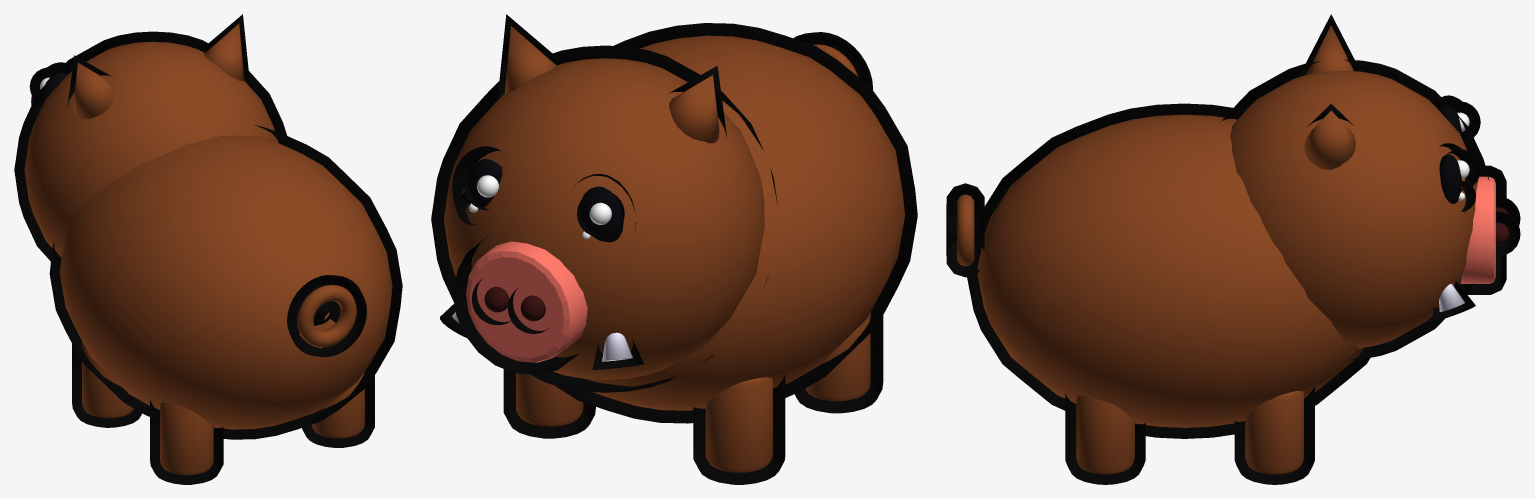
The model's file is Boarlet_1.glb.
The picture shows the model from 3 angles, left to right: view 1: azimuth 30°, elevation 25°; view 2: azimuth 150°, elevation 25°; view 3: azimuth 270°, elevation 25°; orthographic projection. The views are drawn at different scales.
Visible parts, largest first — view 1: Boarlet_1.001; view 2: Boarlet_1.001; view 3: Boarlet_1.001.
Part boxes in pixels (x1,y1,x2,y2): Boarlet_1.001: (14, 14, 402, 484); Boarlet_1.001: (431, 14, 917, 484); Boarlet_1.001: (946, 14, 1520, 484).
Bounding box in the file's own units: 2.22 × 2.52 × 3.49.
1 material, 1 textured.
